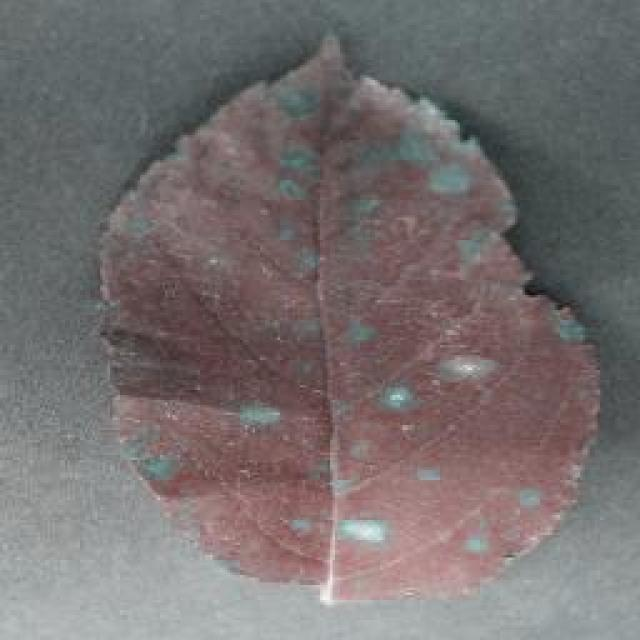apple healthy: (95, 30, 603, 605)
